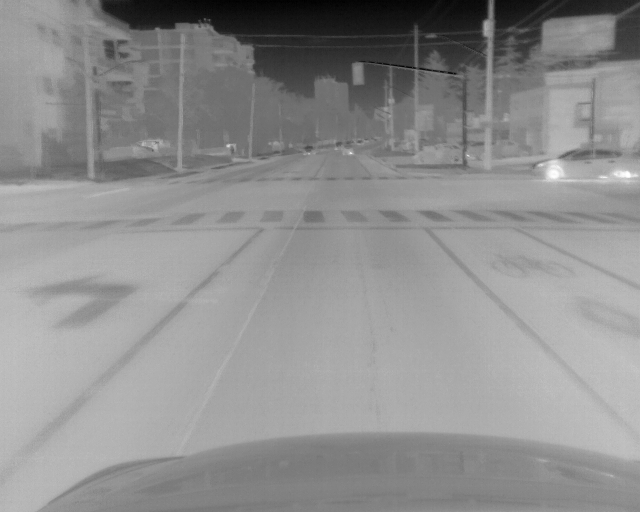car: (533, 145, 640, 183), (132, 138, 168, 153), (340, 144, 354, 156), (301, 144, 315, 156), (333, 141, 343, 151), (343, 141, 355, 149), (356, 138, 366, 146)
